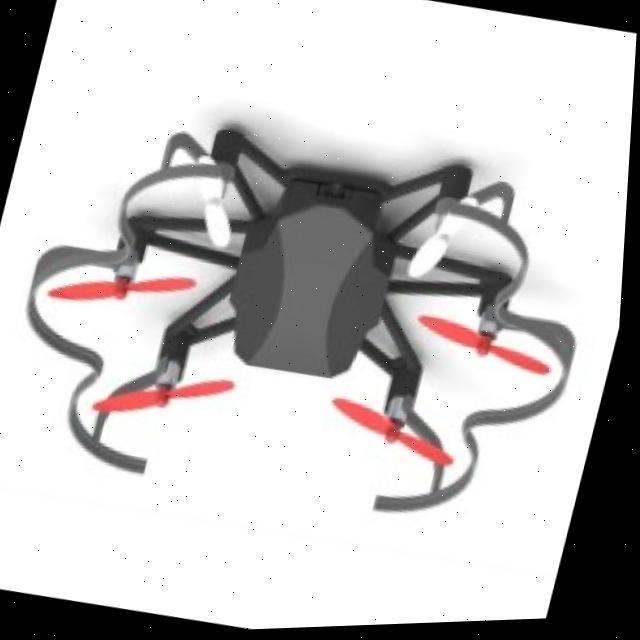drones: (0, 82, 635, 575)
